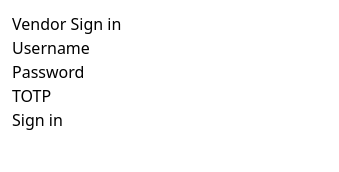
auth login › login stores the access token in memory (not storage) and sets the principal
The image size is (339, 172).
Step 1. Type "alice" into the field labelled "Username" → point(205, 48), box [90, 36, 321, 60]
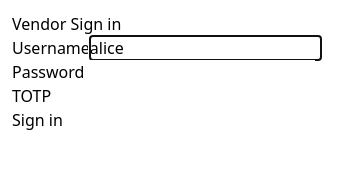
Step 2. Type "pw" into the password field labelled "Password" → point(200, 72), box [84, 60, 315, 84]
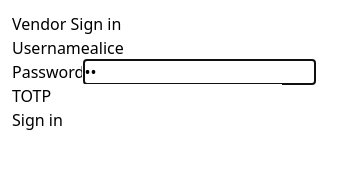
Step 3. Type "123456" into the field labelled "TOTP" → point(167, 96), box [51, 84, 282, 108]
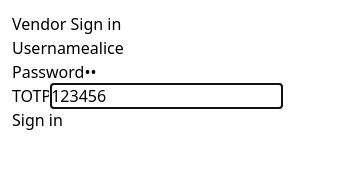
Step 4. Click the button "Sign in" → point(37, 120), box [12, 108, 63, 132]
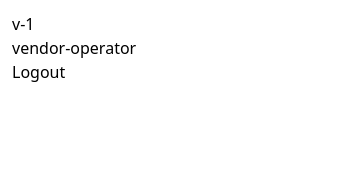
Check: the text "v-1" is shown, box [12, 13, 34, 35]
Check: the text "vendor-operator" is shown, box [12, 37, 136, 59]
